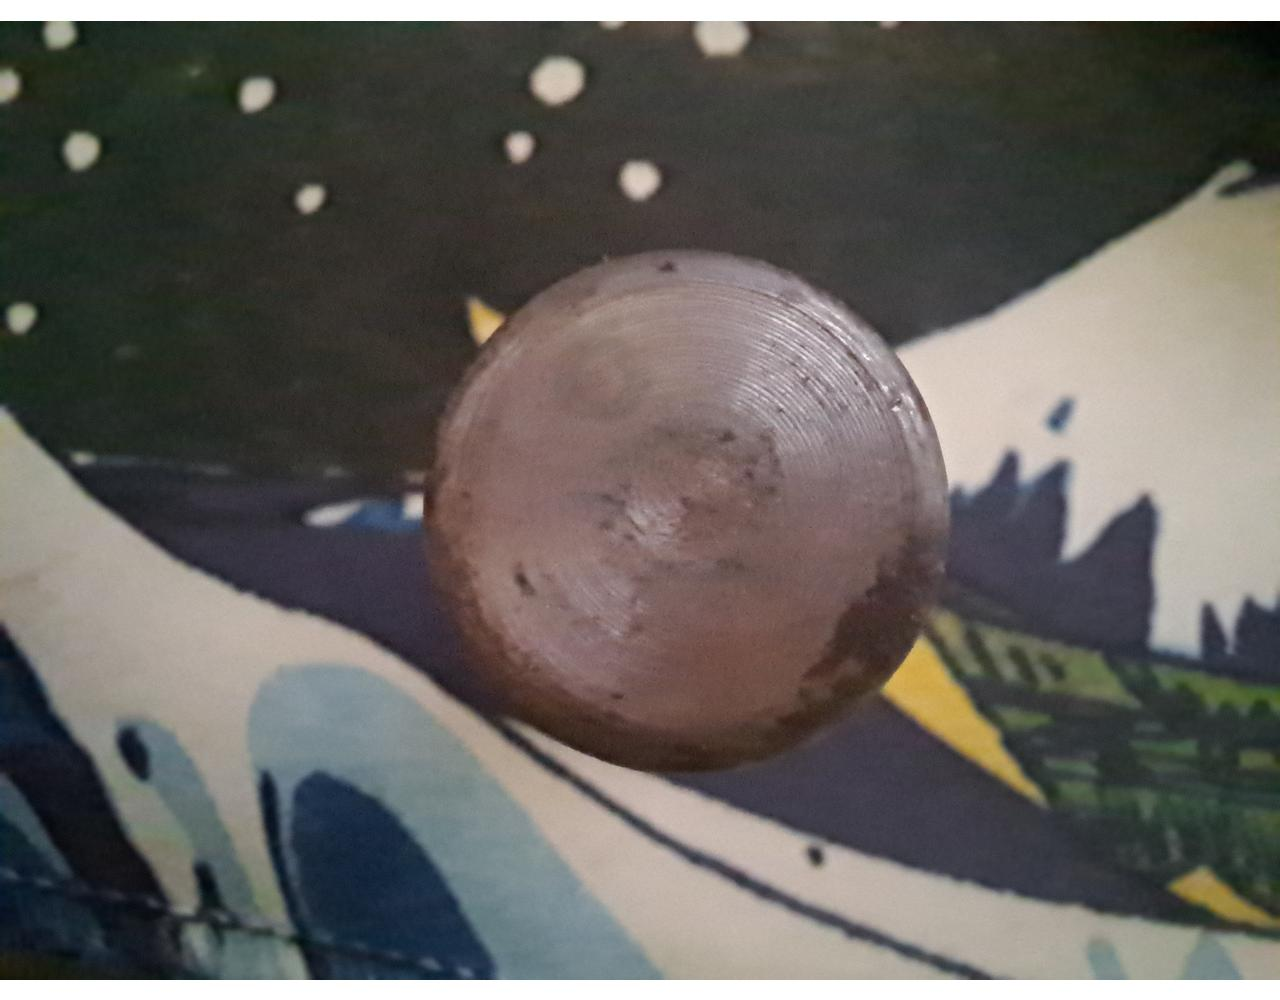defect: (545, 327, 660, 430)
planson: (426, 247, 954, 767)
